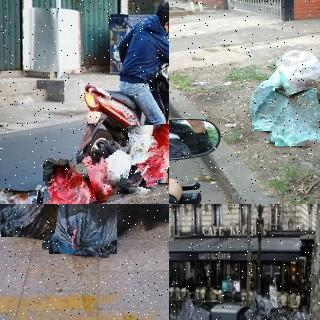Garbage: (45, 204, 120, 256), (97, 143, 161, 194), (279, 46, 320, 125), (273, 86, 320, 147), (129, 124, 169, 184), (71, 150, 114, 203), (41, 158, 90, 204), (0, 204, 64, 239), (253, 90, 288, 132), (27, 181, 53, 204), (0, 189, 38, 204), (281, 307, 315, 320)
